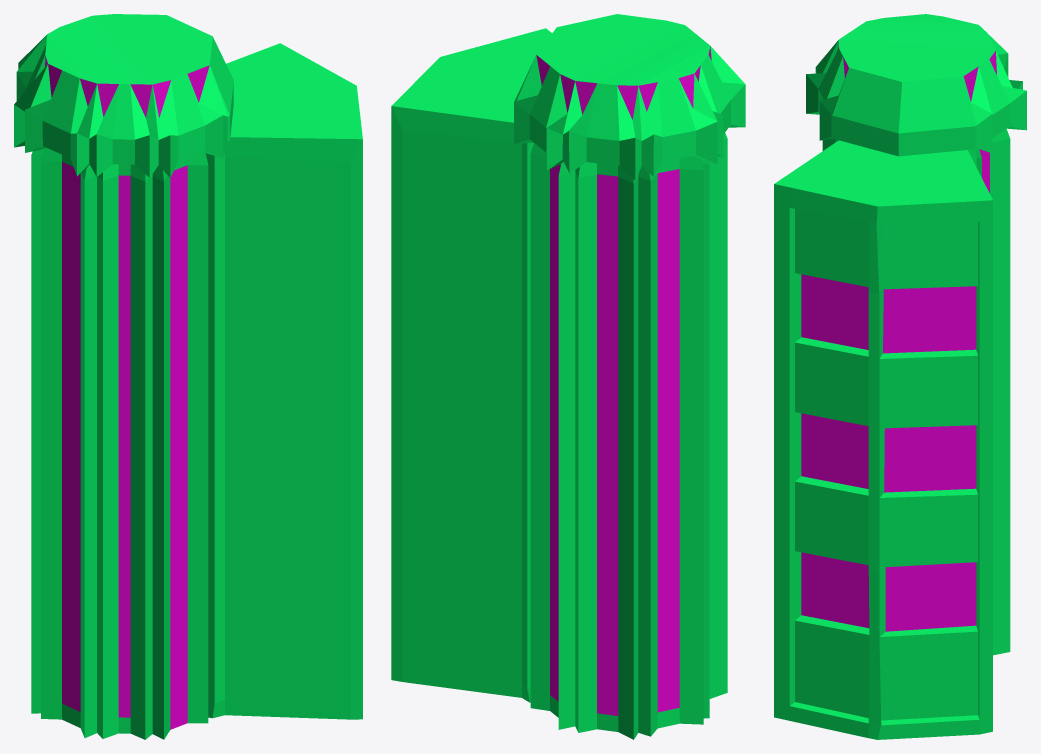
3 views of the same model, side by side, from view 1: azimuth 30°, elevation 25°; view 2: azimuth 150°, elevation 25°; view 3: azimuth 270°, elevation 25° (orthographic). The views are drawn at different scales.
Parts seen in each view (by area): view 1: Object001.003; view 2: Object001.003; view 3: Object001.003.
Part boxes in pixels (left/top/right/bottom): Object001.003: left=14, top=14, right=362, bottom=739; Object001.003: left=391, top=14, right=745, bottom=739; Object001.003: left=774, top=14, right=1026, bottom=739.
Bounding box in the file's own units: 99.49 × 199 × 76.01.
